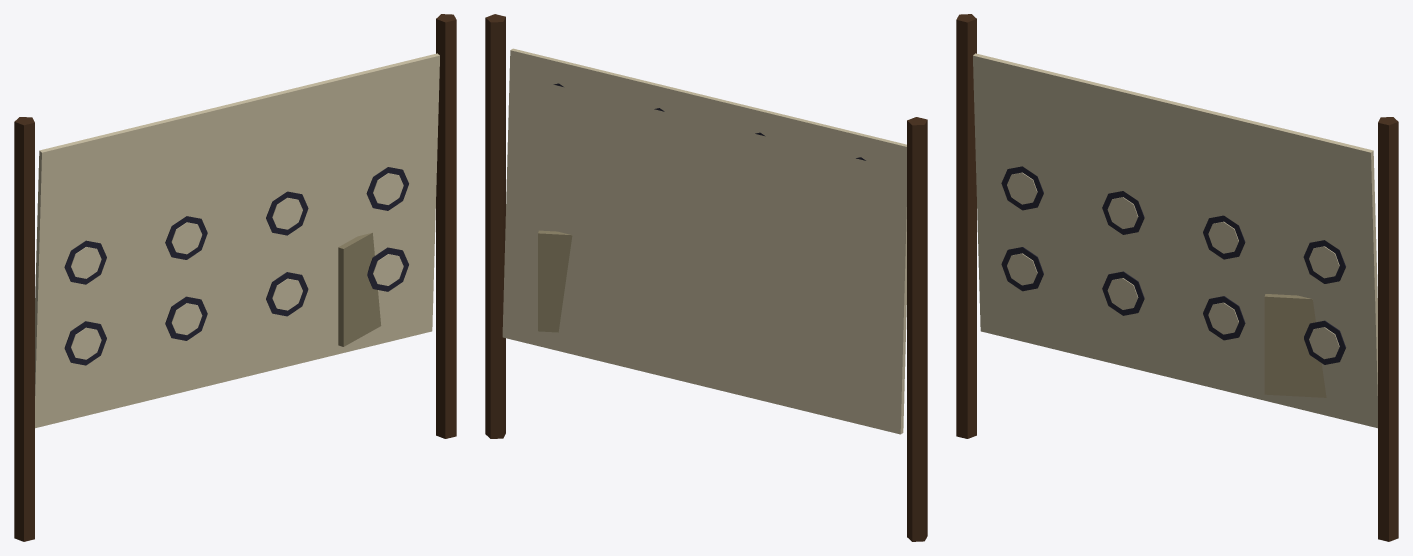
Rendered from sanseong_jinbeop_map.glb.
3 renders of one model, left to right at view 1: azimuth 30°, elevation 25°; view 2: azimuth 150°, elevation 25°; view 3: azimuth 330°, elevation 25°, orthographic.
Parts seen in each view (by area): view 1: sanseong_jinbeop_map; view 2: sanseong_jinbeop_map; view 3: sanseong_jinbeop_map.
Part boxes in pixels (bbox=[...]): sanseong_jinbeop_map: bbox=[14, 14, 456, 541]; sanseong_jinbeop_map: bbox=[485, 14, 927, 541]; sanseong_jinbeop_map: bbox=[956, 14, 1398, 541].
Size of the model in its own units: 1.88 by 1.7 by 0.1399.
